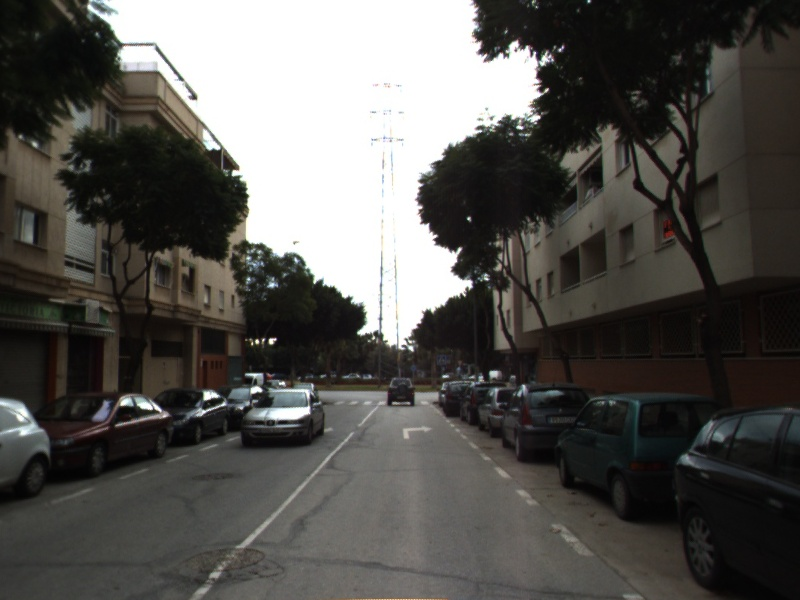RIGHT: (400, 422, 435, 441)
